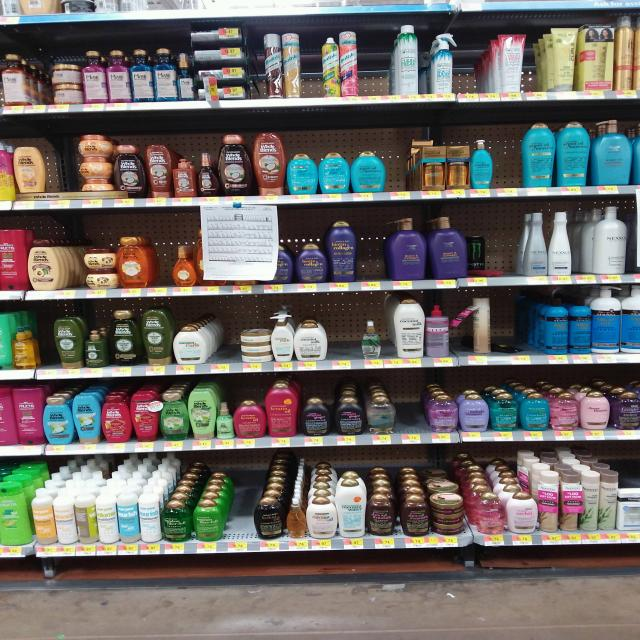unorganised: (467, 299, 499, 354)
